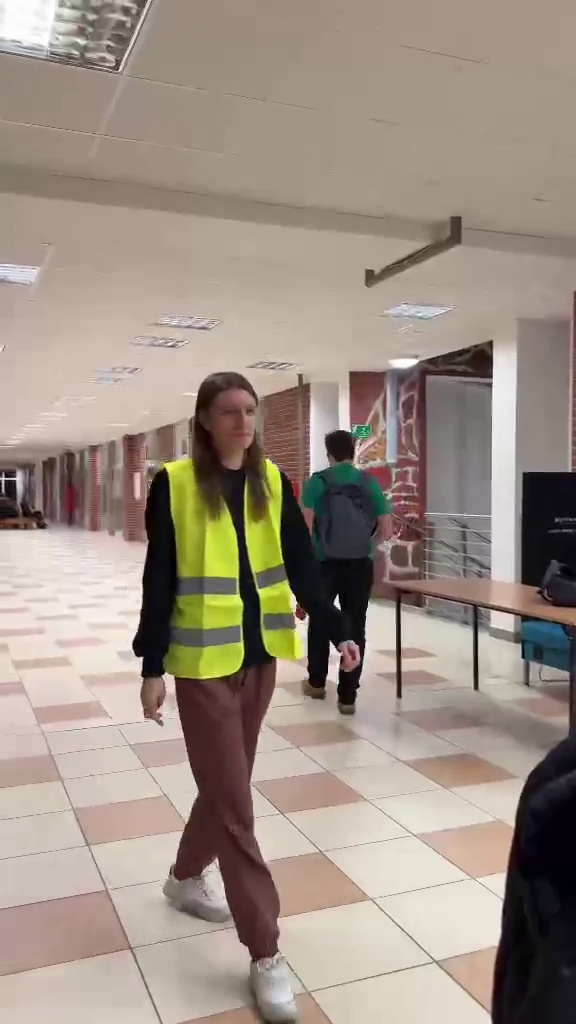no vest: (292, 426, 407, 708)
vest: (133, 369, 290, 1003)
